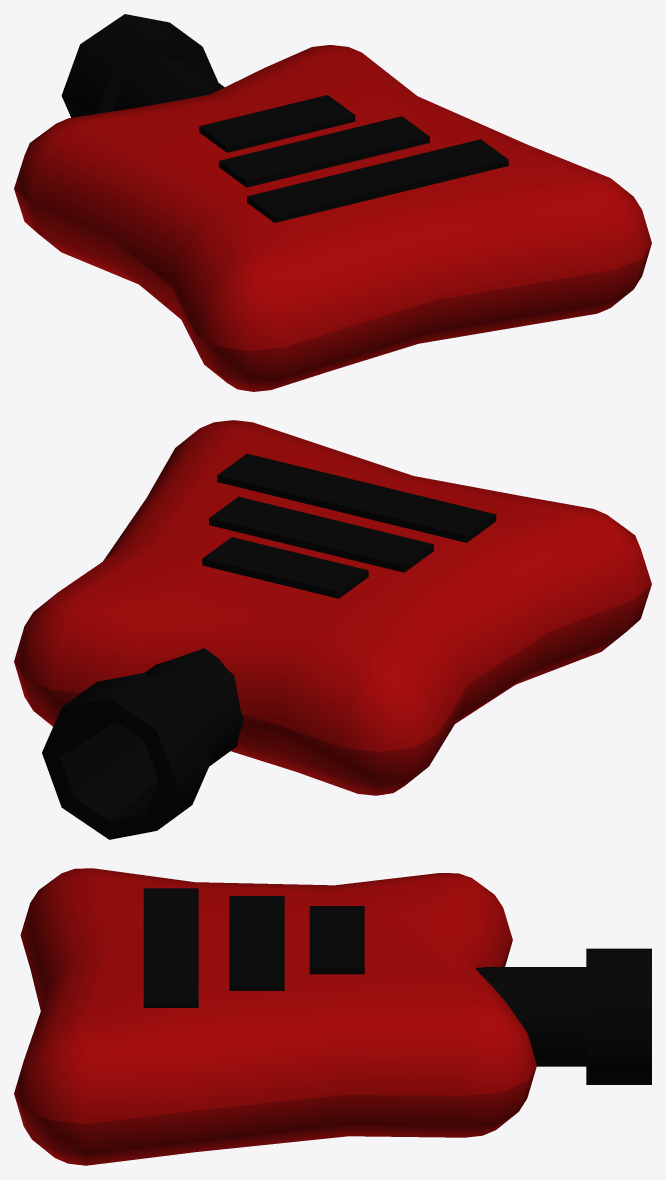
Rendered from WeirdEnemy.FBX.
3 renders of one model, top to bottom at view 1: azimuth 30°, elevation 25°; view 2: azimuth 150°, elevation 25°; view 3: azimuth 270°, elevation 25°, orthographic. The views are drawn at different scales.
Visible parts, largest first — view 1: ChamferBox05, Cylinder16, Box02, Box07, Box08; view 2: ChamferBox05, Cylinder16, Box02, Box07, Box08; view 3: ChamferBox05, Cylinder16, Box02, Box07, Box08.
Boxes of the visible parts, bbox=[...] form: ChamferBox05: bbox=[14, 45, 651, 391]; Cylinder16: bbox=[61, 14, 224, 117]; Box02: bbox=[247, 139, 508, 222]; Box07: bbox=[219, 116, 429, 187]; Box08: bbox=[199, 95, 355, 152]; ChamferBox05: bbox=[14, 420, 651, 795]; Cylinder16: bbox=[42, 648, 243, 839]; Box02: bbox=[217, 453, 496, 542]; Box07: bbox=[209, 496, 433, 572]; Box08: bbox=[202, 537, 368, 598]; ChamferBox05: bbox=[14, 868, 536, 1165]; Cylinder16: bbox=[475, 948, 651, 1084]; Box02: bbox=[143, 888, 198, 1007]; Box07: bbox=[229, 896, 284, 990]; Box08: bbox=[309, 906, 364, 974].
Size of the model in its own units: 104 by 32.15 by 131.
